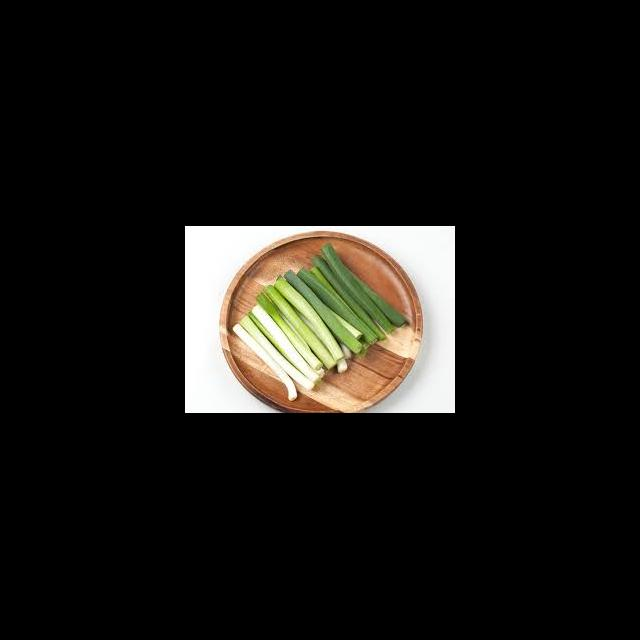green_onion: (234, 252, 399, 391)
